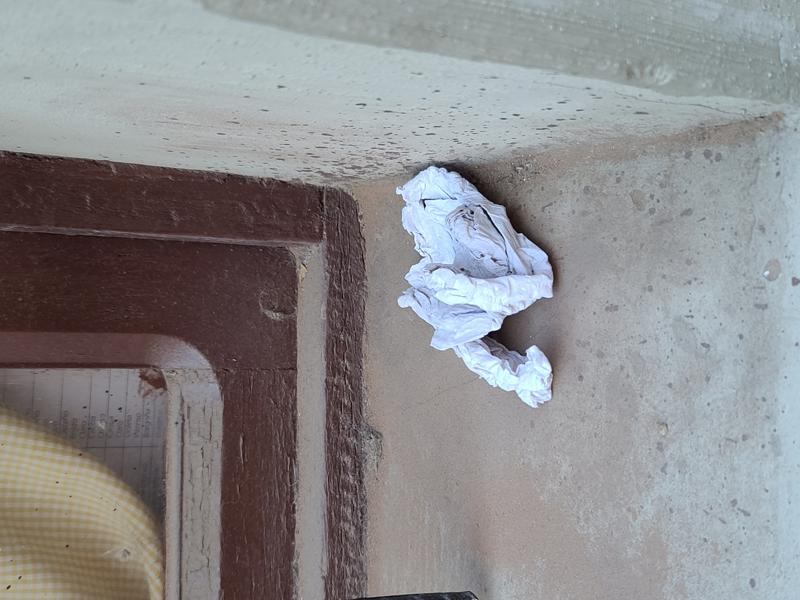papel: (394, 164, 555, 407)
